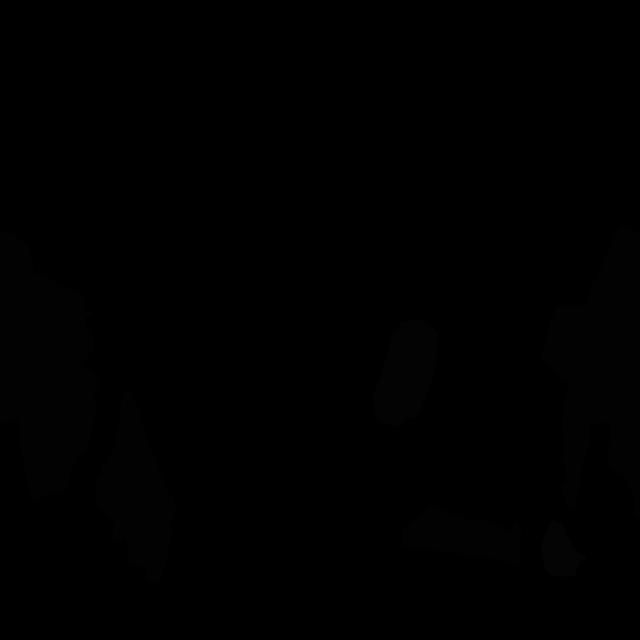cardboard: (541, 225, 640, 520), (0, 231, 100, 503), (95, 387, 176, 583), (402, 504, 522, 564), (0, 278, 48, 423)
metal: (373, 319, 438, 427)
soft_plastic: (542, 519, 586, 577)
